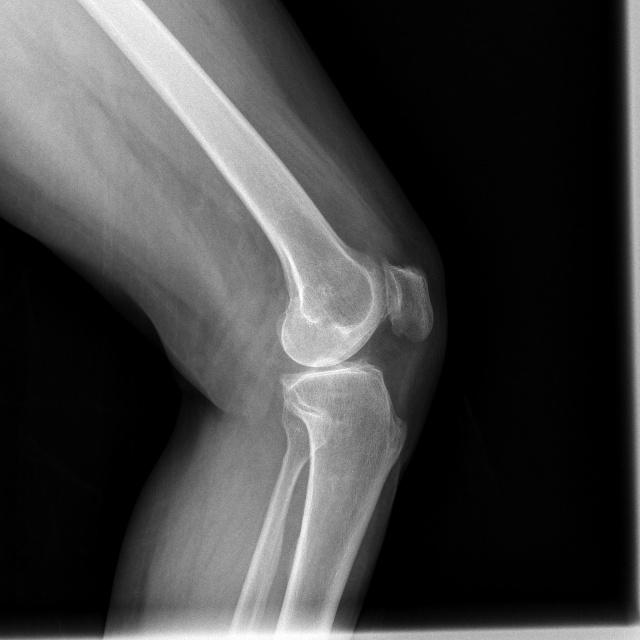Knee: (273, 257, 434, 432)
